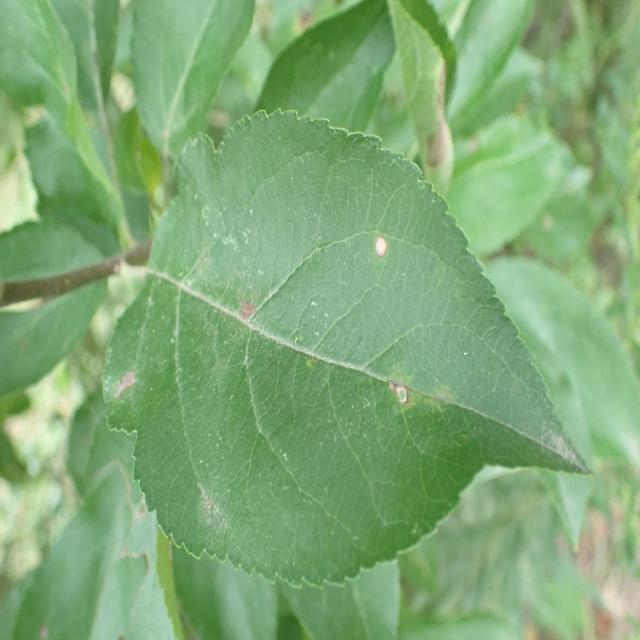frog-eye-leaf-spot: (102, 106, 594, 591)
